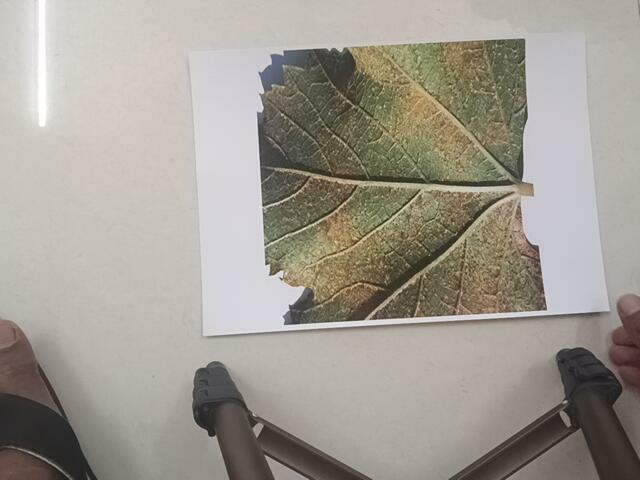Grape_Rust_Fungus: (260, 35, 556, 322)
